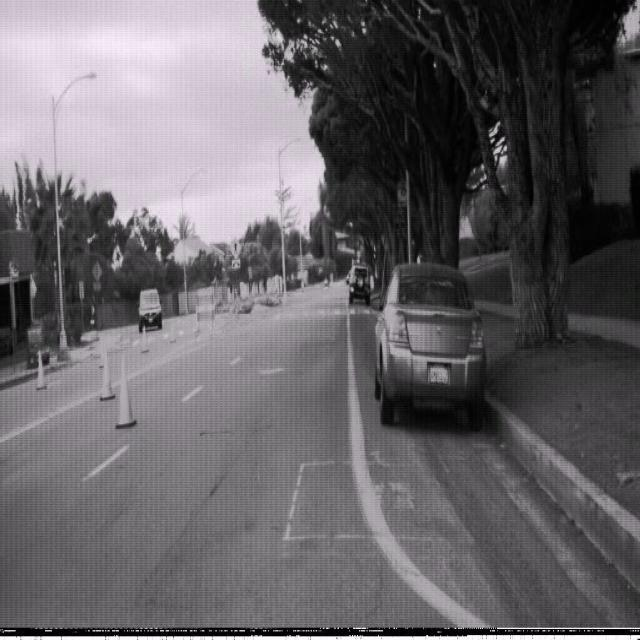pedestrianCrossing: (228, 236, 242, 261)
